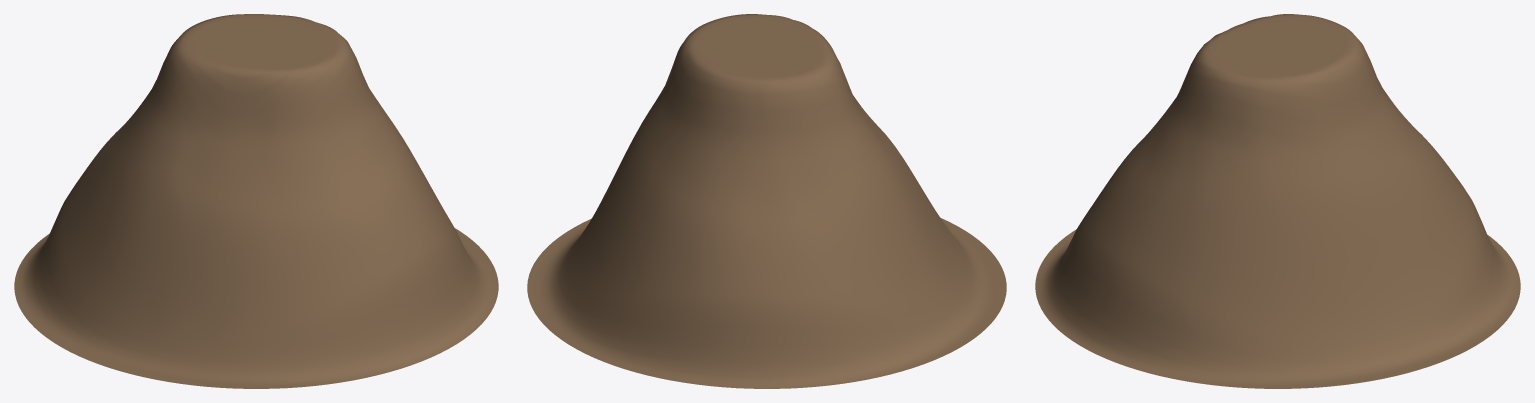
Rendered from hill-v4.5.glb.
The picture shows the model from 3 angles, left to right: view 1: azimuth 30°, elevation 25°; view 2: azimuth 150°, elevation 25°; view 3: azimuth 270°, elevation 25°; orthographic projection.
Parts seen in each view (by area): view 1: hill_v4_5; view 2: hill_v4_5; view 3: hill_v4_5.
Part boxes in pixels (<box>): hill_v4_5: <box>14,14,498,388</box>; hill_v4_5: <box>527,14,1006,388</box>; hill_v4_5: <box>1035,14,1520,388</box>.
Size of the model in its own units: 2 by 1.1 by 2.
